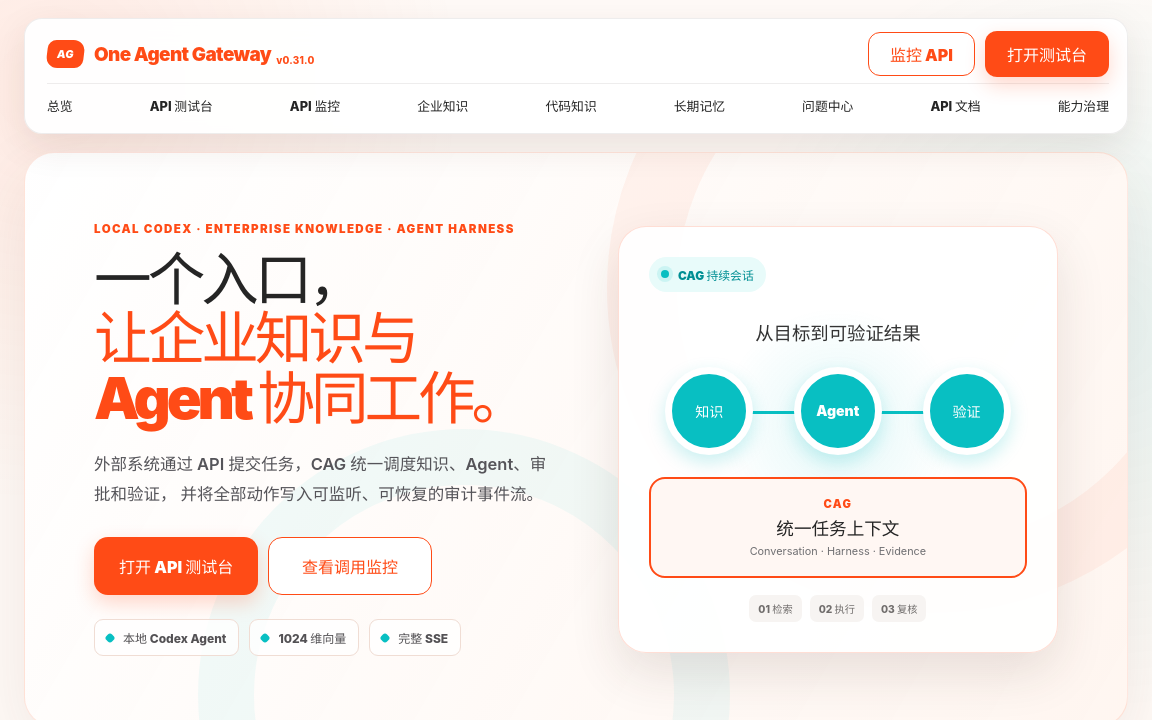
Test: One Agent Gateway conversation page › routes each feature domain to an independent page
The image size is (1152, 720).
Click the link "企业知识" at (443, 104), box [417,88,468,121]
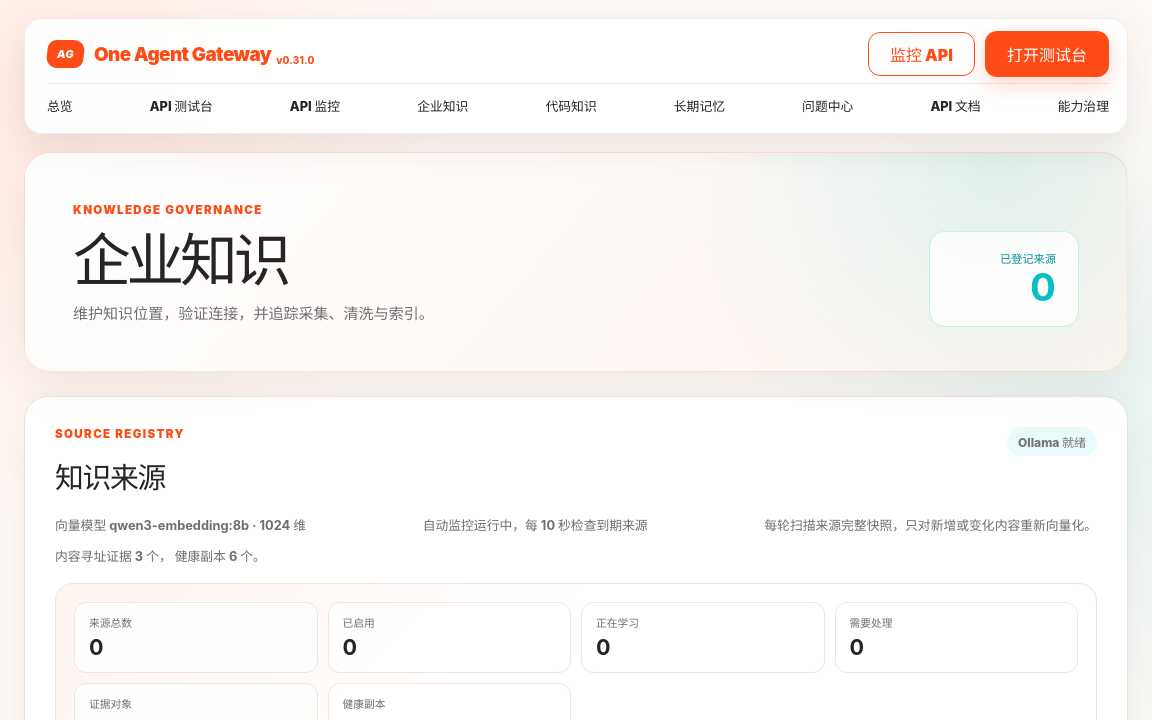
Expected: the heading "企业知识" is shown, [73,225,287,295]
Expected: the text "Ollama 就绪" is shown, [1007,427,1097,456]
Click the link "能力治理" at (1083, 104), box [1058,88,1109,121]
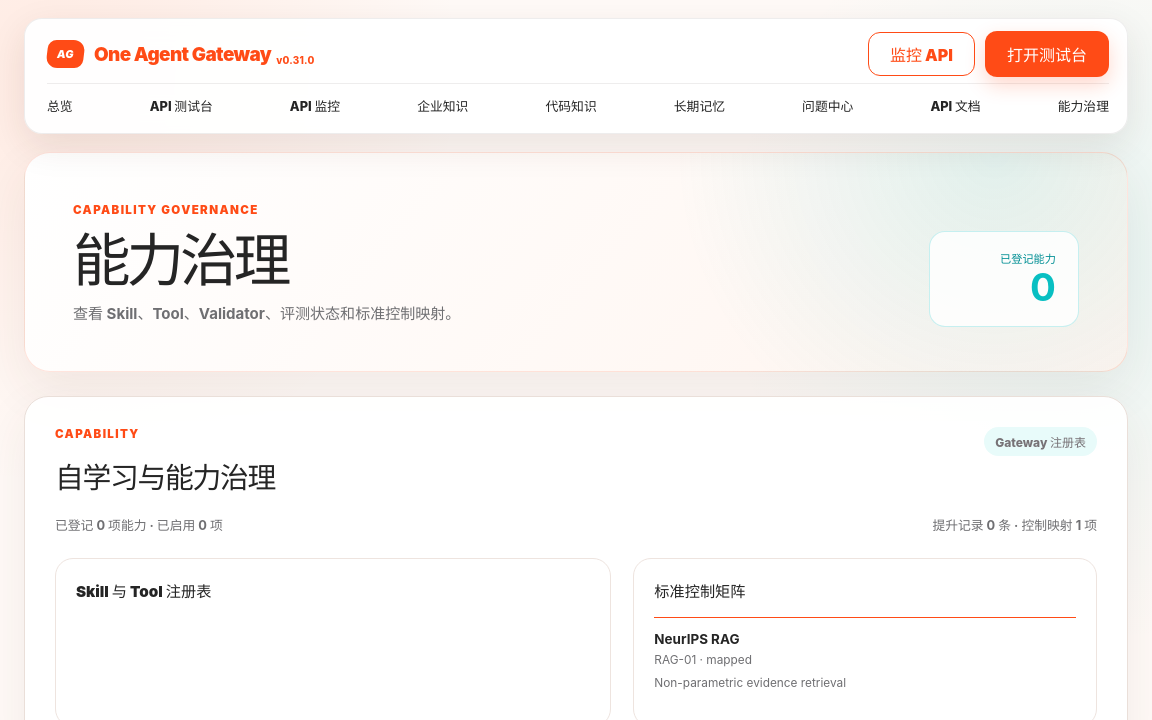
Expected: the heading "能力治理" is shown, [73,225,287,295]
Expected: the text "Gateway 注册表" is shown, [984,427,1097,456]
Expected: the text "NeurIPS RAG" is shown, [654,631,740,647]
Click the link "代码知识" at (571, 104), box [546,88,597,121]
(page scrolled)
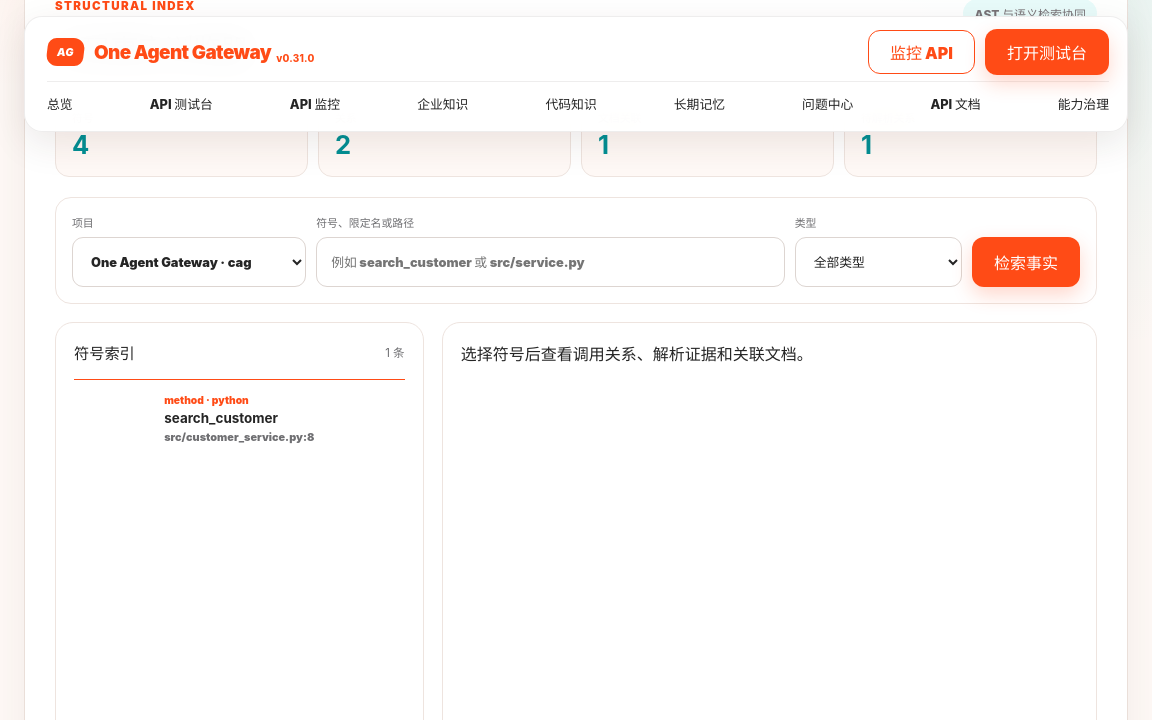
Expected: the text "search_customer" is shown, [164,410,278,426]
Click the button "method · python search_customer src/customer_service.py:8" at (239, 418), box [74,379,405,458]
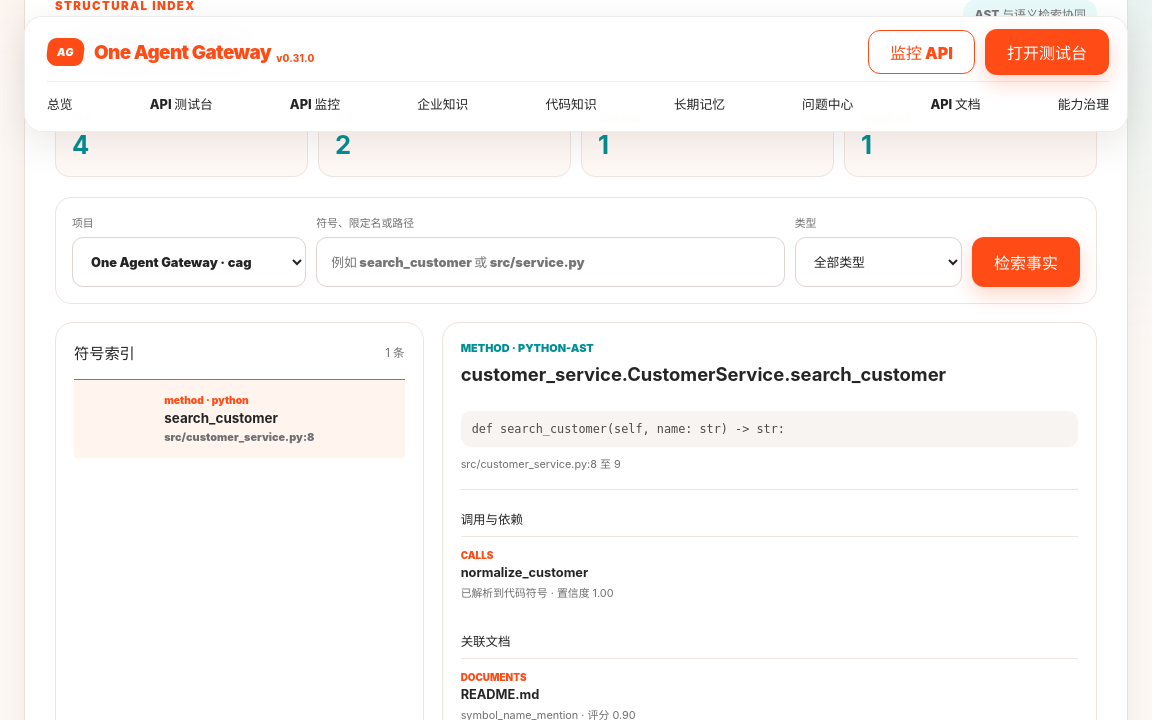
Expected: the text "normalize_customer" is shown, [461,565,588,580]
Expected: the text "README.md" is shown, [461,687,539,702]
Click the link "长期记忆" at (699, 102), box [674,86,725,119]
(page scrolled)
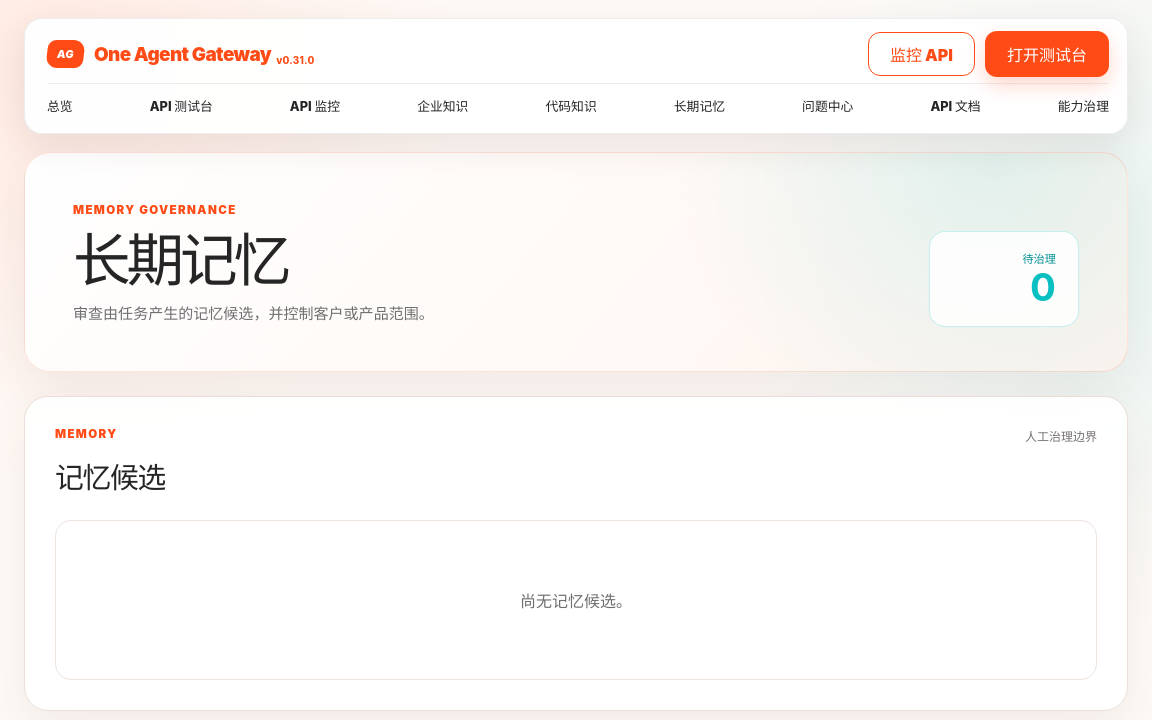
Expected: the heading "长期记忆" is shown, [73,225,287,295]
Click the link "API 监控" at (315, 104), box [290,88,340,121]
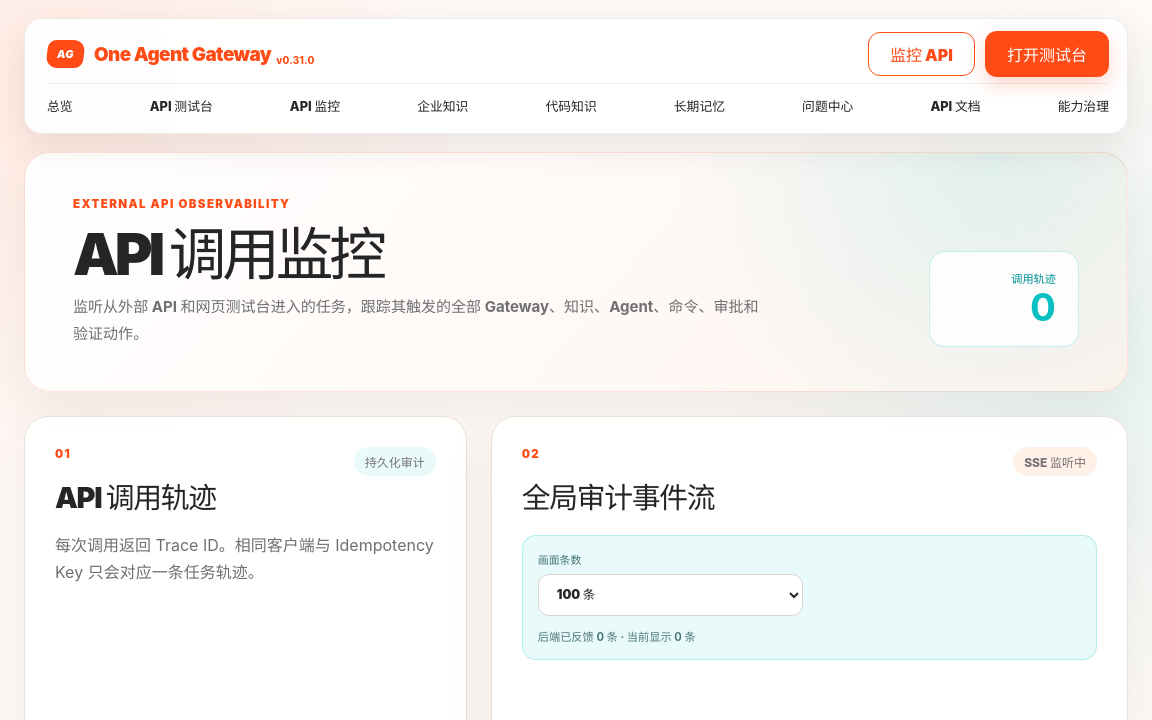
Expected: the heading "API 调用监控" is shown, [73,219,383,289]
Expected: the heading "全局审计事件流" is shown, [522,475,714,516]
